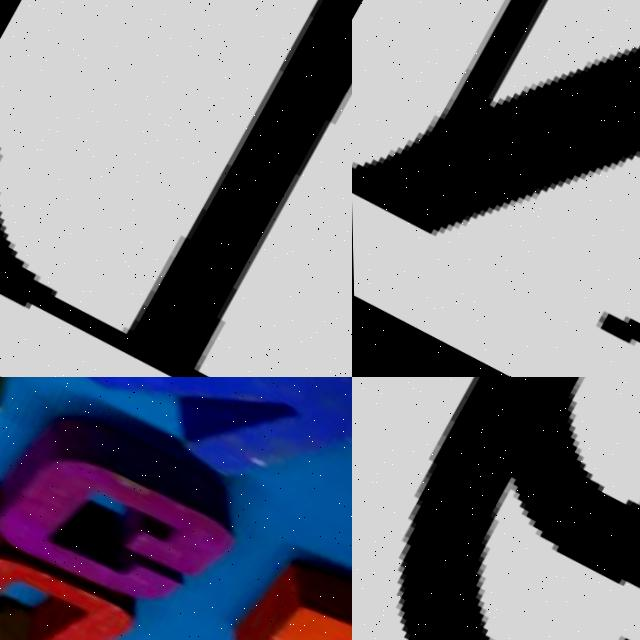6: (352, 377, 640, 640)
E: (214, 533, 352, 640)
G: (0, 386, 242, 639)
N: (352, 0, 640, 377), (13, 377, 352, 592)
T: (0, 0, 352, 377)
U: (0, 517, 131, 640)
